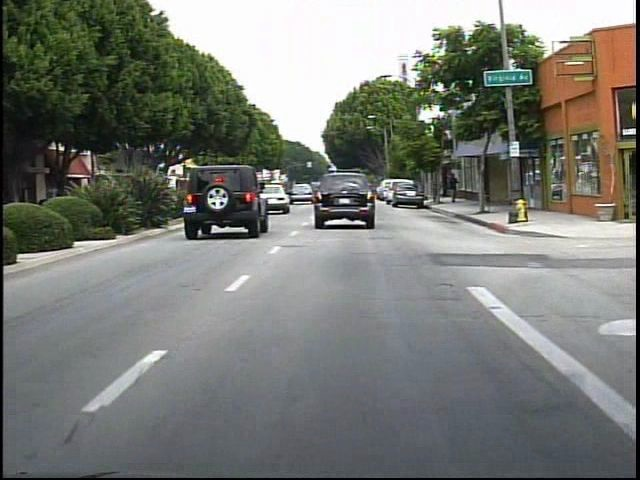person: (443, 169, 463, 206)
